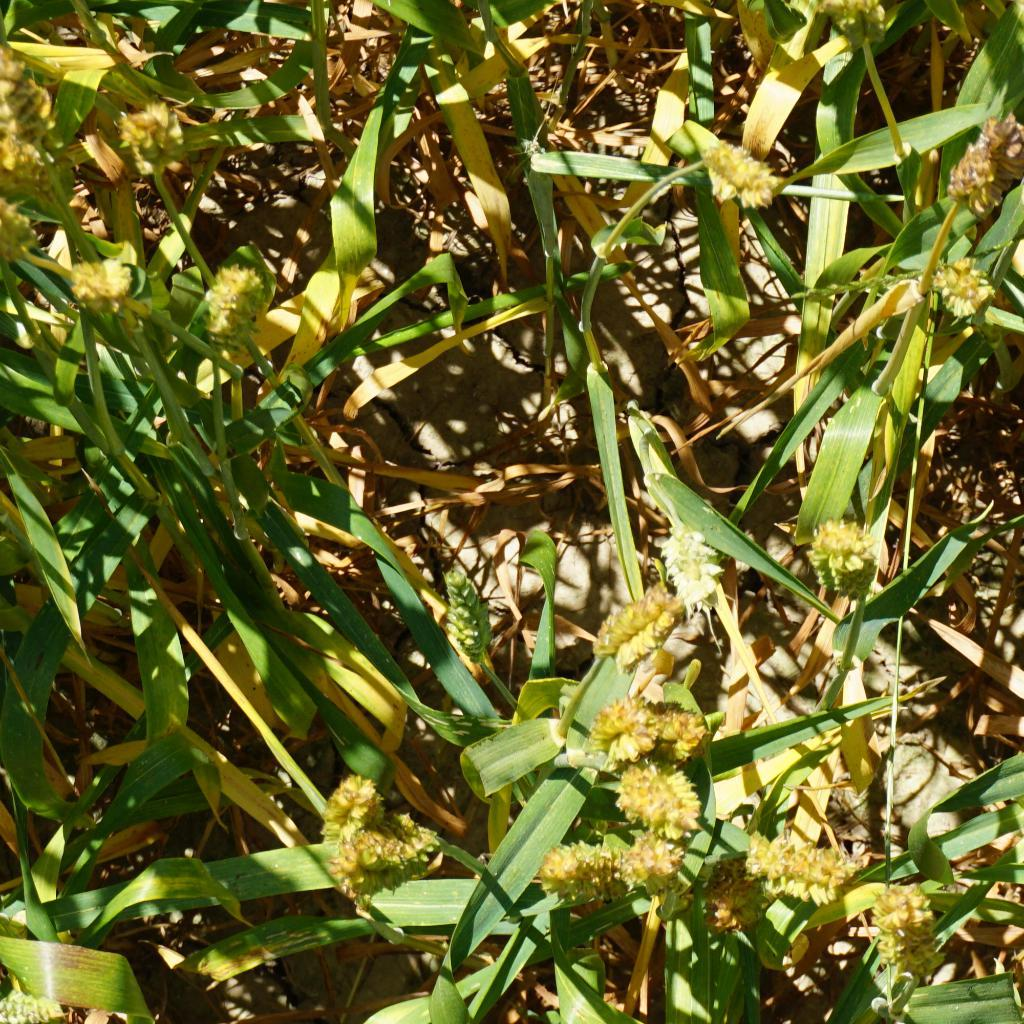0-0: (322, 819, 439, 909), (860, 887, 950, 978), (806, 507, 891, 591), (581, 581, 675, 654), (649, 519, 725, 605), (614, 755, 699, 828), (952, 113, 1016, 208), (0, 34, 59, 128), (700, 139, 775, 208), (702, 848, 764, 931), (435, 571, 495, 654), (934, 254, 1001, 327), (213, 265, 270, 347), (120, 98, 193, 162), (825, 0, 908, 55), (772, 835, 843, 899), (72, 254, 144, 315), (534, 837, 611, 892), (648, 696, 715, 759), (0, 122, 51, 200), (588, 698, 652, 753), (620, 835, 687, 886), (312, 775, 372, 830), (0, 987, 73, 1024), (0, 193, 35, 267)
